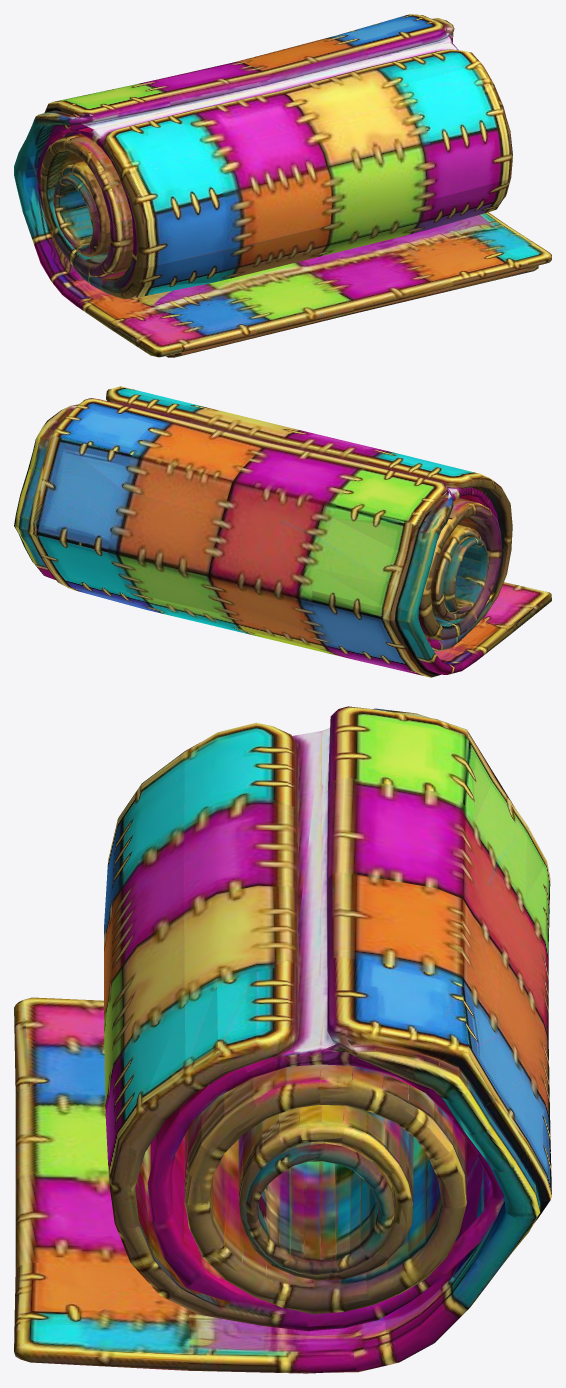
Rendered from patchwork_rug.glb.
3 renders of one model, top to bottom at view 1: azimuth 30°, elevation 25°; view 2: azimuth 150°, elevation 25°; view 3: azimuth 270°, elevation 25°, orthographic. The views are drawn at different scales.
Bounding box in the file's own units: 1 × 0.4473 × 0.6367.
1 material, 1 textured.
